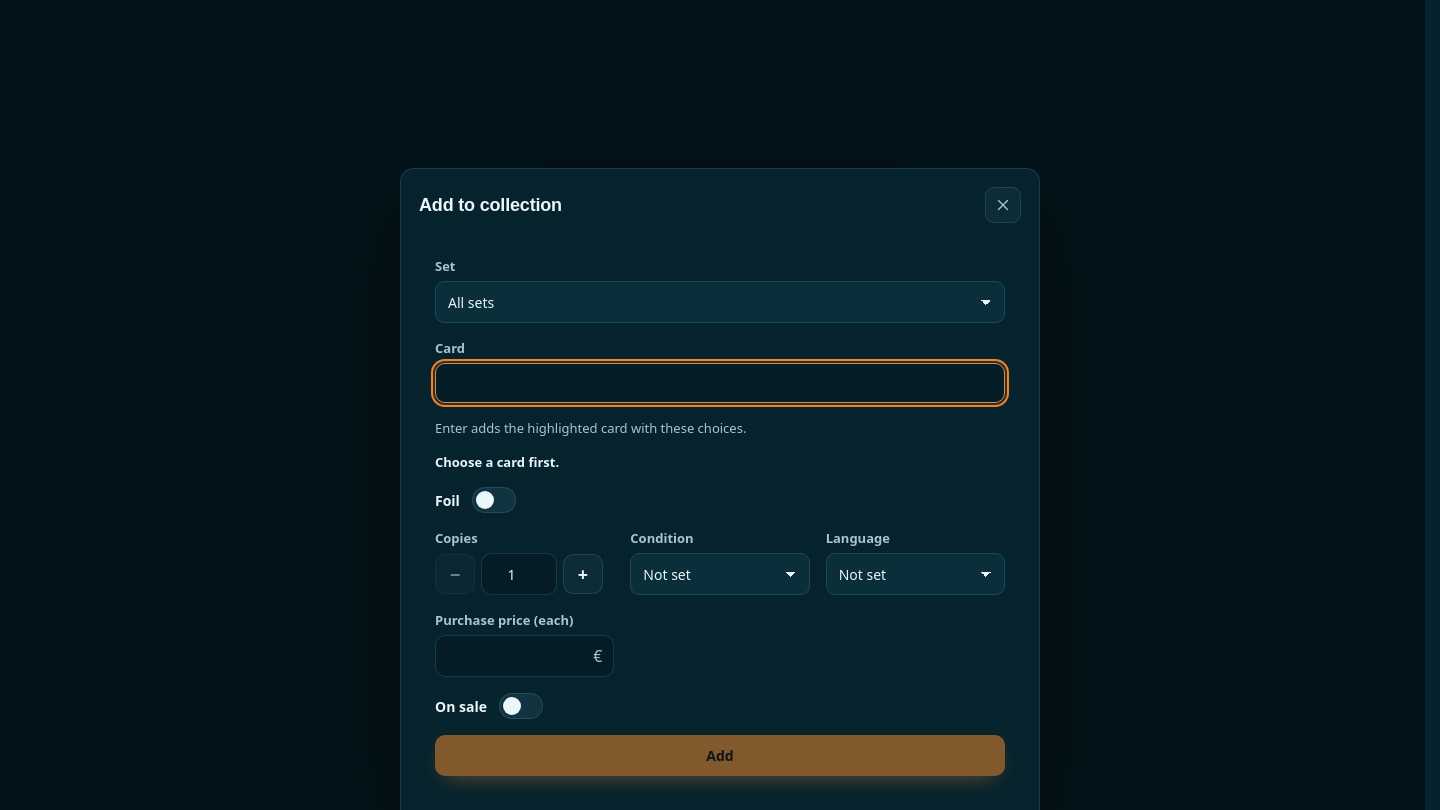
Test case: AddSheet (F3-g S7) › shows the server error translated and keeps the card chosen
Type "em" into the dropdown labelled "Card" at x=720, y=383, box x1=435 y1=363 x2=1005 y2=403
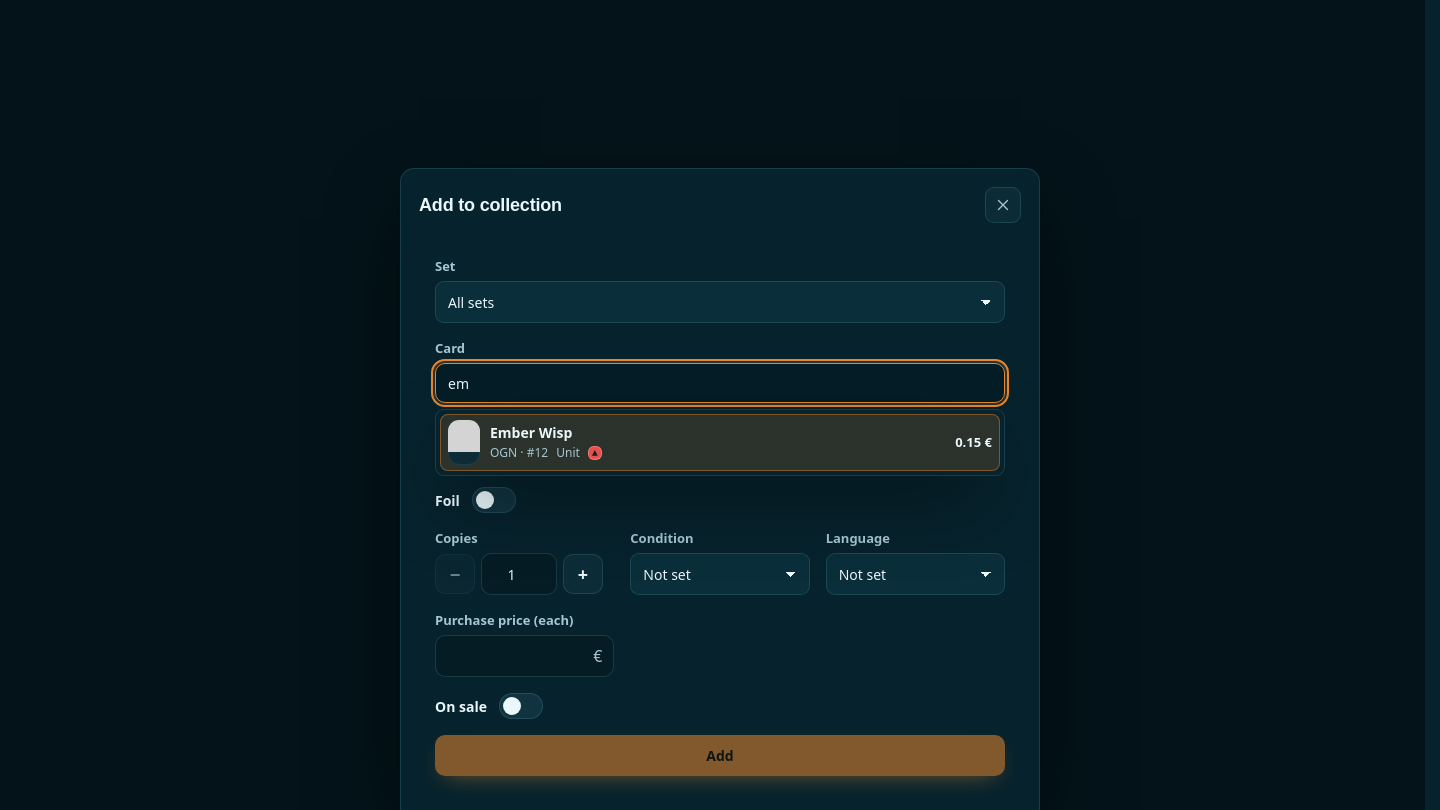
Click the option "Ember Wisp OGN · #12 Unit 0.15 €" at x=464, y=442, box x1=440 y1=414 x2=1000 y2=471
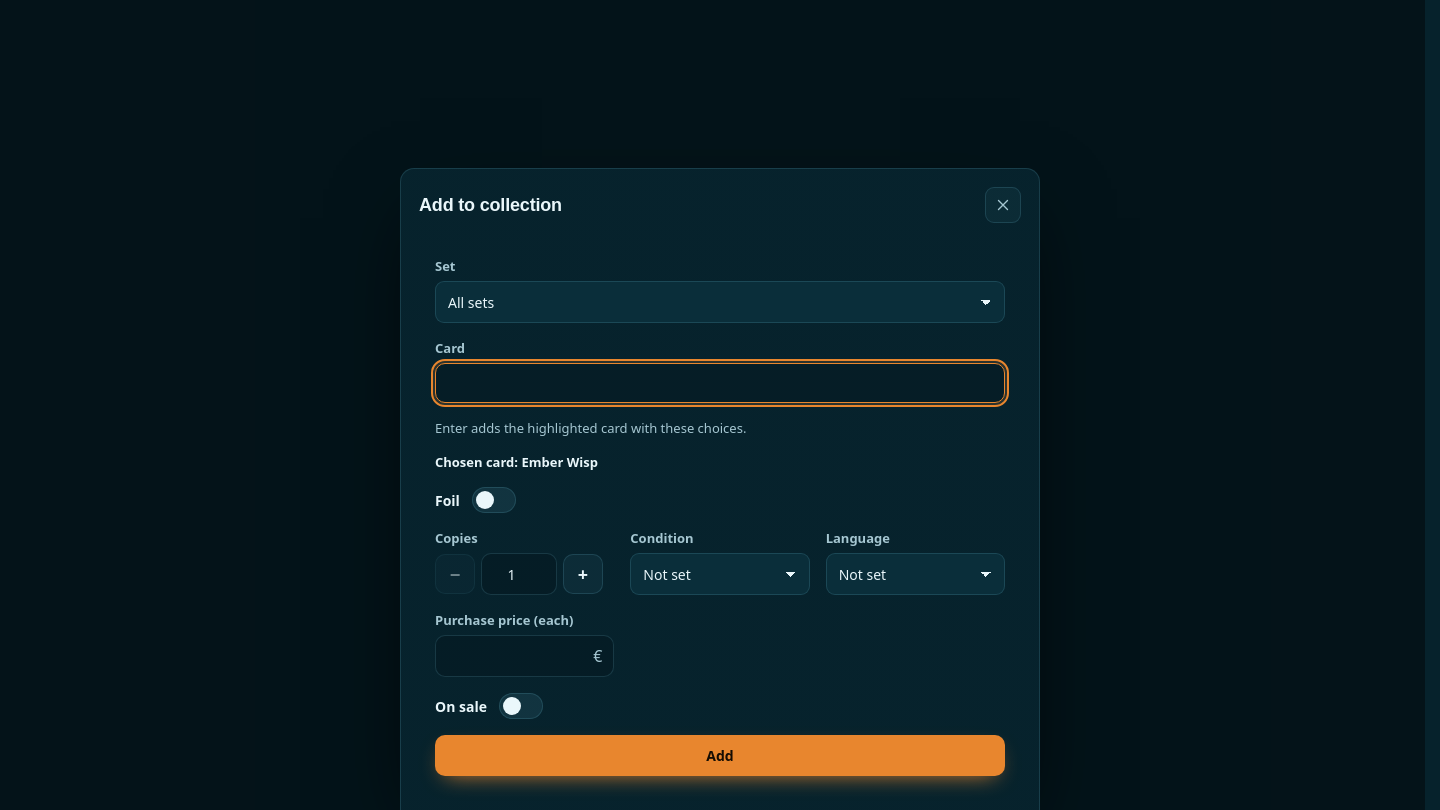
Click the button "Add" at x=720, y=756, box x1=435 y1=735 x2=1005 y2=776
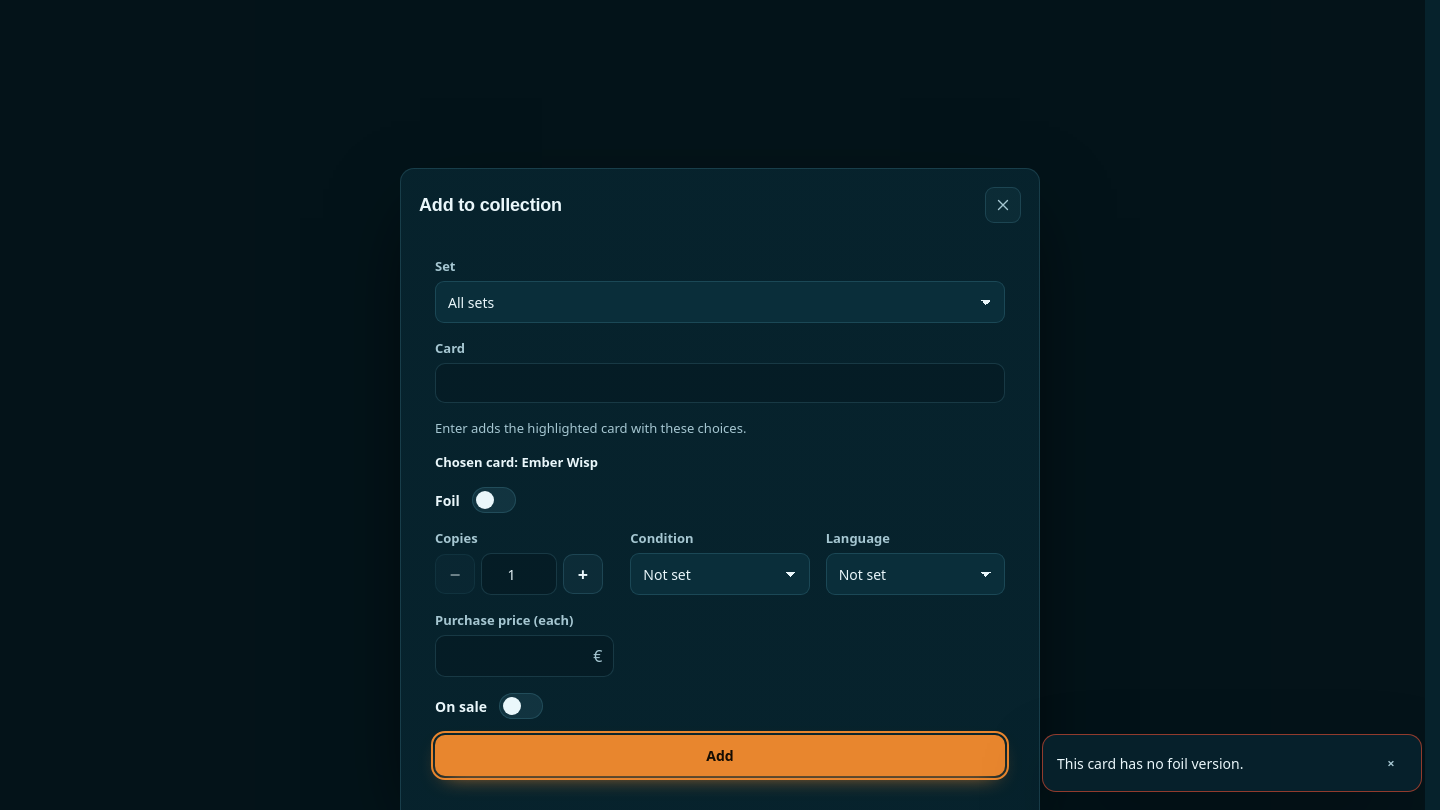
Expected: the text "Chosen card: Ember Wisp" is shown, x1=435 y1=453 x2=598 y2=471
Expected: the button "Add" is enabled, x1=435 y1=735 x2=1005 y2=776
Expected: the text "This card has no foil version." is shown, x1=1057 y1=754 x2=1244 y2=772
